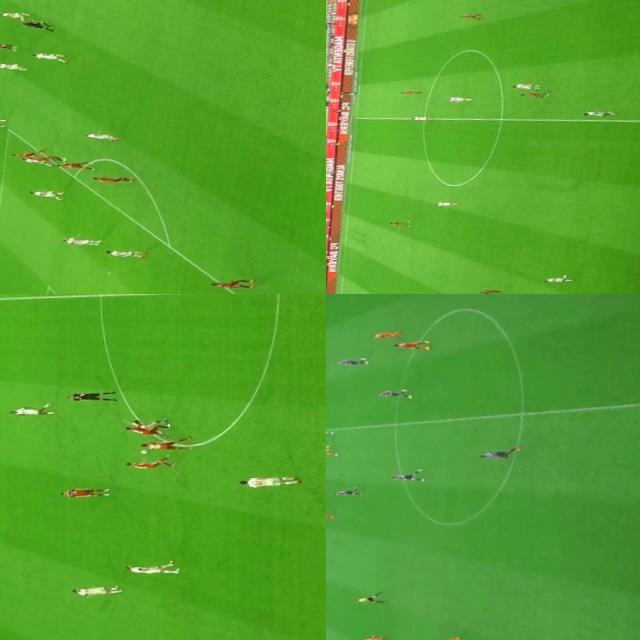ball: (136, 447, 150, 455)
player: (237, 472, 300, 490), (124, 558, 180, 576), (138, 438, 190, 452), (58, 485, 110, 498), (8, 402, 52, 417), (30, 48, 70, 64), (394, 337, 434, 352), (121, 423, 163, 437), (70, 582, 118, 594), (104, 246, 148, 259), (210, 276, 256, 288), (474, 446, 520, 458), (11, 146, 48, 160), (61, 234, 104, 246), (90, 172, 136, 183), (82, 128, 118, 142), (127, 416, 161, 430), (376, 388, 412, 401), (123, 458, 169, 468), (334, 354, 372, 366), (392, 469, 426, 482), (542, 272, 576, 284), (0, 10, 34, 21), (367, 328, 402, 338), (56, 160, 96, 168), (28, 188, 68, 196), (25, 154, 55, 164), (0, 60, 26, 71), (332, 486, 359, 496), (0, 38, 20, 51), (510, 82, 540, 90), (584, 109, 618, 116), (34, 153, 60, 162), (458, 12, 484, 21), (478, 286, 503, 294), (388, 218, 412, 226), (447, 95, 473, 102), (434, 199, 459, 206), (358, 635, 390, 640), (398, 89, 422, 95), (409, 114, 433, 120), (326, 445, 339, 456), (520, 92, 552, 96), (420, 637, 460, 640), (326, 428, 336, 437), (326, 509, 333, 521)
